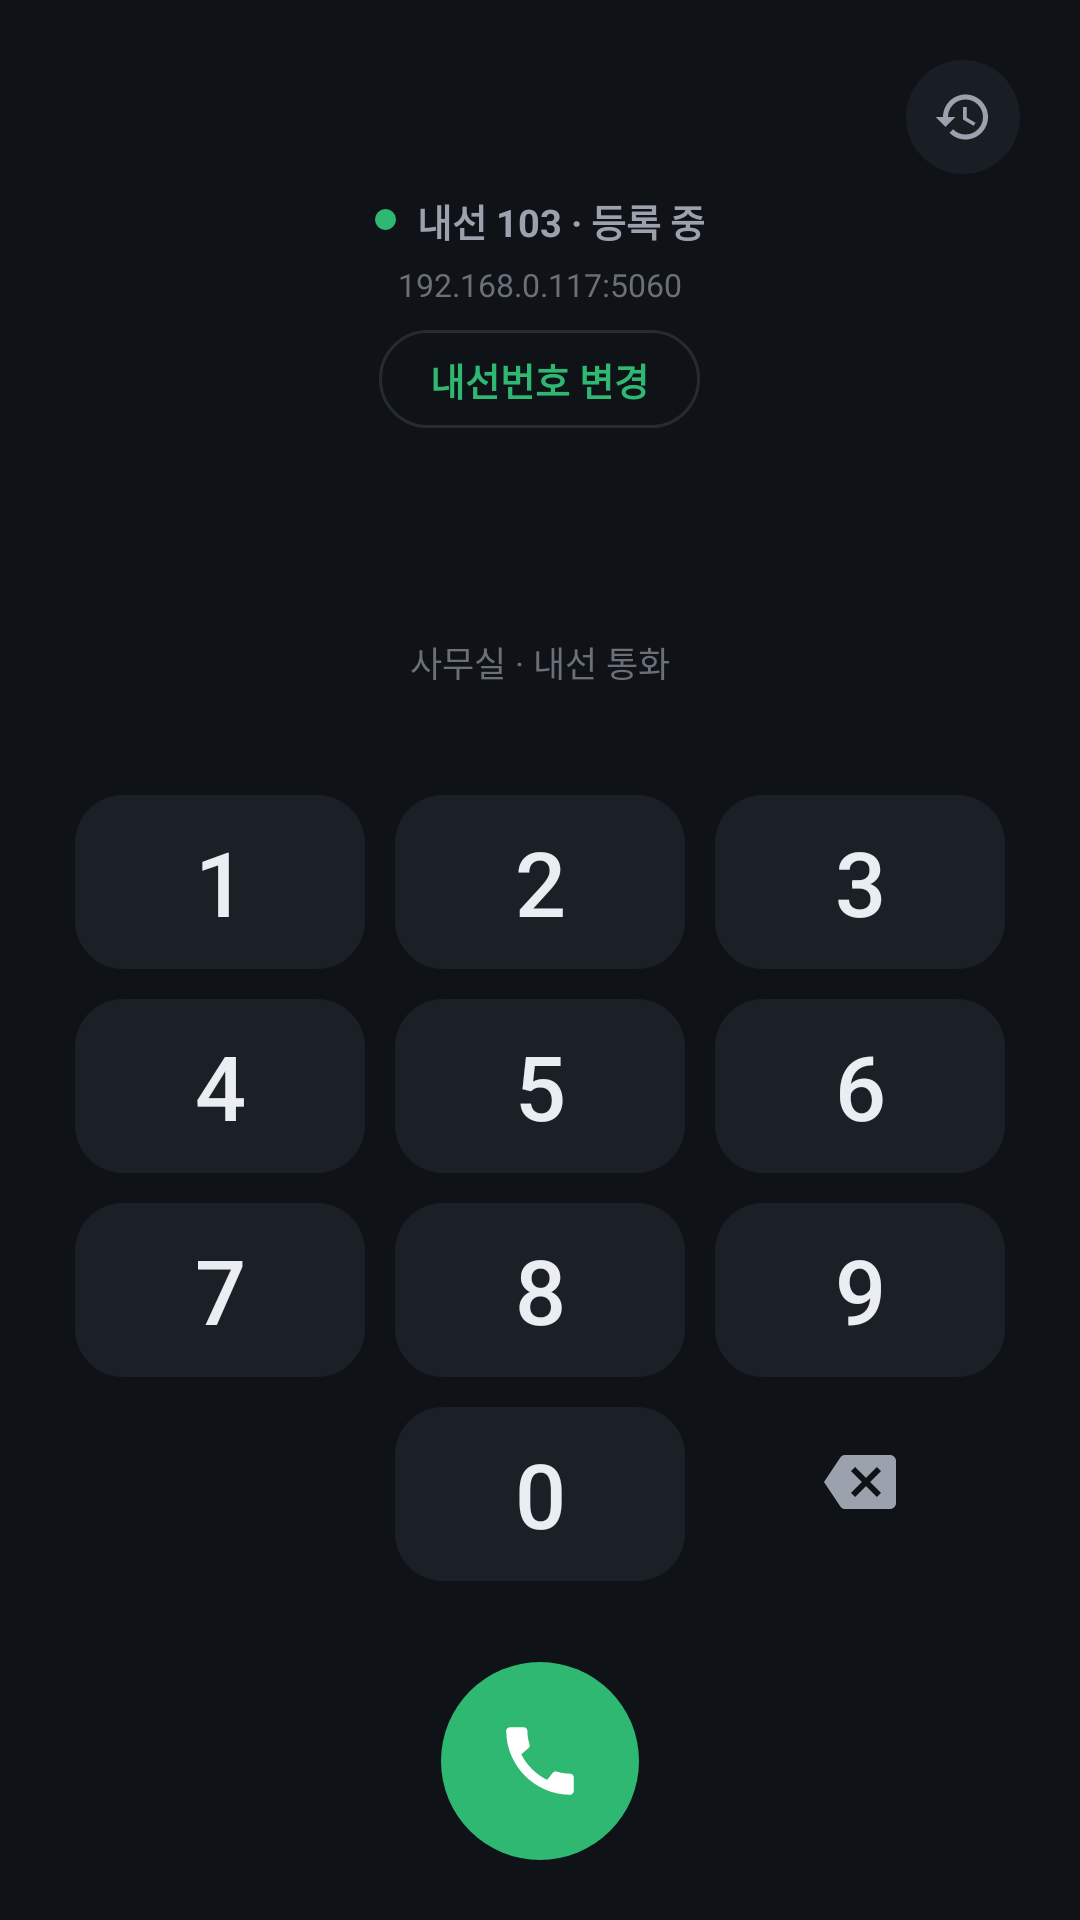

Where to tap for icons on this 1080×1920 app screen, as [x,y]:
삭제: [860,1482]
최근 통화: [963,117]
통화: [540,1761]
